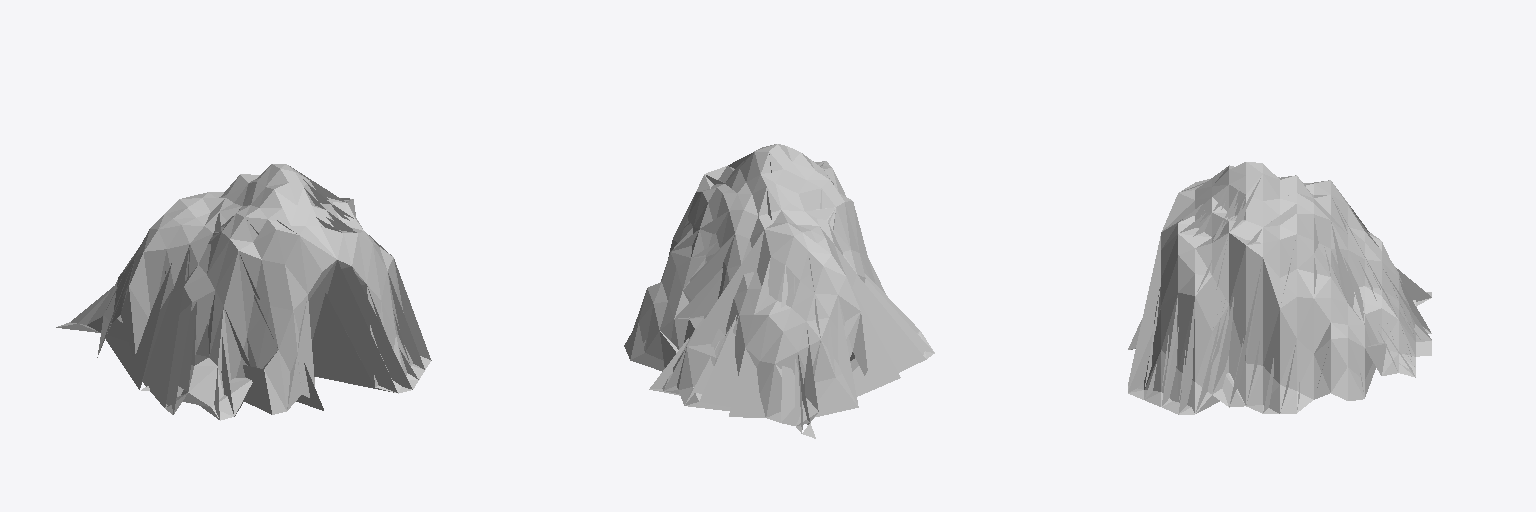
Rendered from tree_20.obj.
3 renders of one model, left to right at view 1: azimuth 30°, elevation 25°; view 2: azimuth 150°, elevation 25°; view 3: azimuth 270°, elevation 25°, orthographic.
Visible parts, largest first — view 1: tree_20_minus_dtm; view 2: tree_20_minus_dtm; view 3: tree_20_minus_dtm.
Boxes of the visible parts, <box> form: tree_20_minus_dtm: <box>56,164,431,420</box>; tree_20_minus_dtm: <box>624,144,934,438</box>; tree_20_minus_dtm: <box>1128,162,1431,414</box>.
Size of the model in its own units: 17 by 12.77 by 18.